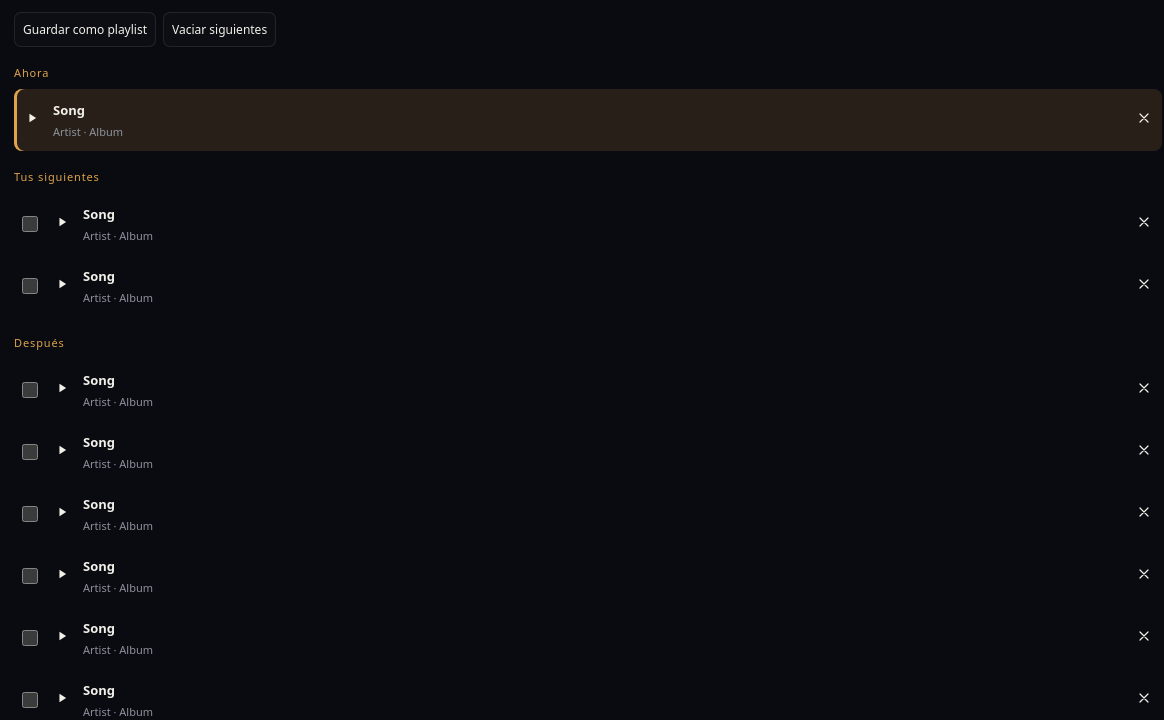
Test: queue editing view › requires confirmation to remove the current item
What coordinates should you click on to do the following:
click the 1st button with class "remove"
I would click on:
 (1144, 120)
Its box is [1130,104,1158,136].
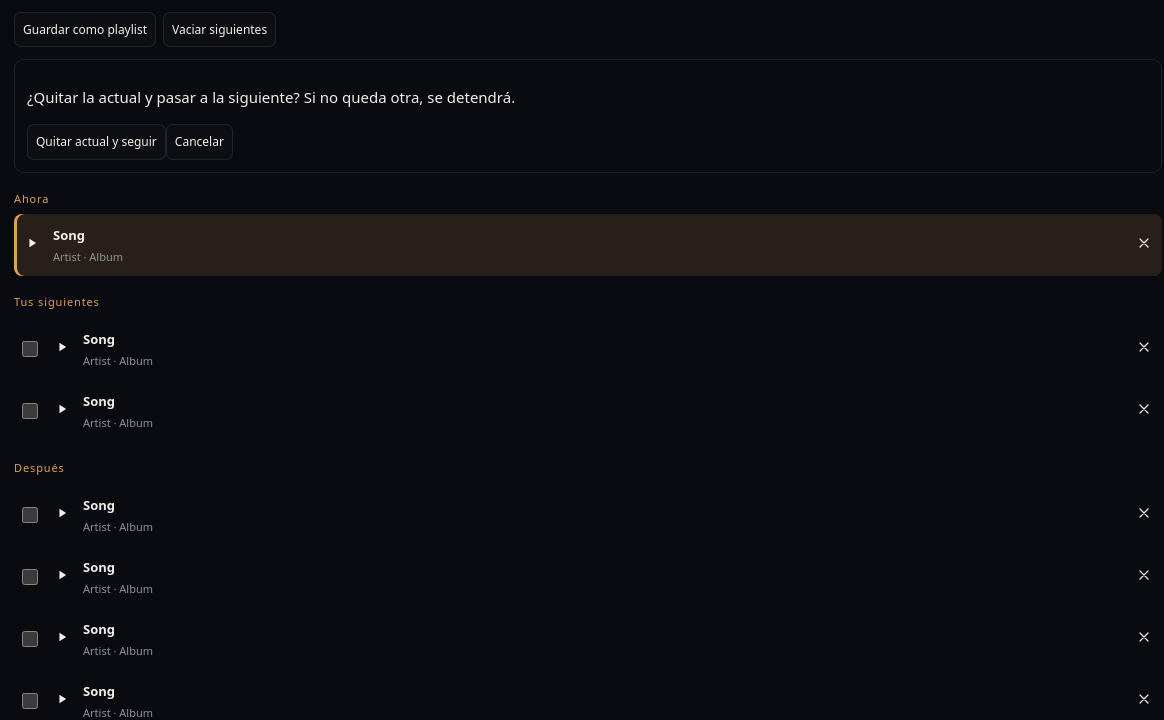
Now the text "Quitar actual y seguir" is shown, box [27,124,166,160]
